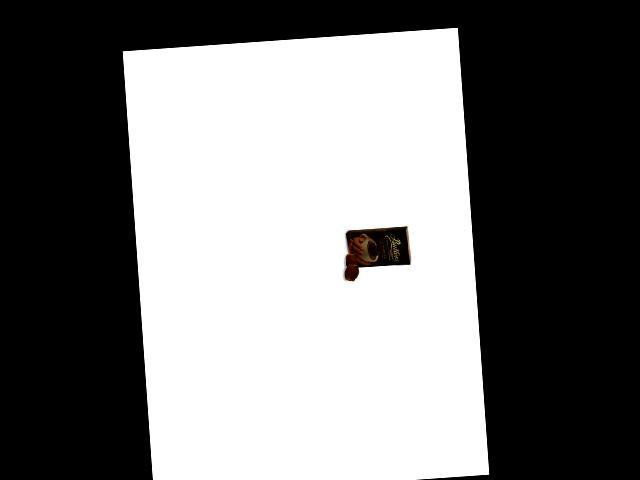chocolate: (343, 223, 413, 274)
